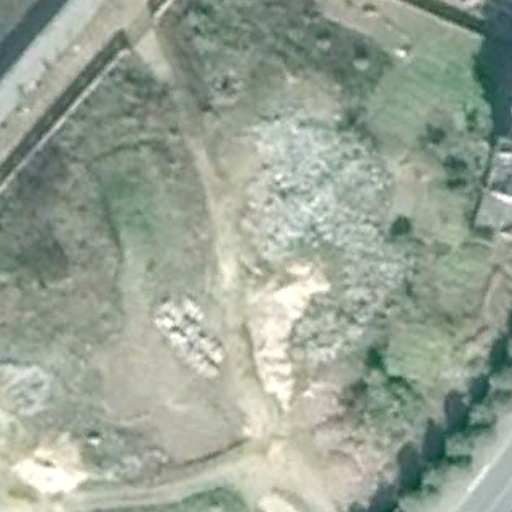msw: (258, 121, 400, 401), (153, 292, 226, 375)
